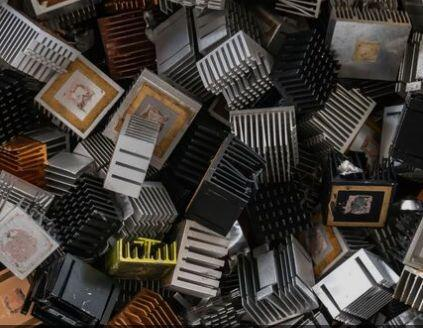electronic: (186, 132, 266, 232), (236, 242, 318, 326), (31, 254, 121, 327), (42, 178, 122, 258), (313, 248, 398, 322), (1, 3, 79, 82), (196, 31, 271, 108), (271, 25, 335, 113), (169, 220, 235, 300), (303, 86, 375, 156), (104, 113, 160, 199), (0, 68, 49, 143), (145, 7, 193, 75), (44, 150, 95, 192), (193, 5, 230, 56)
